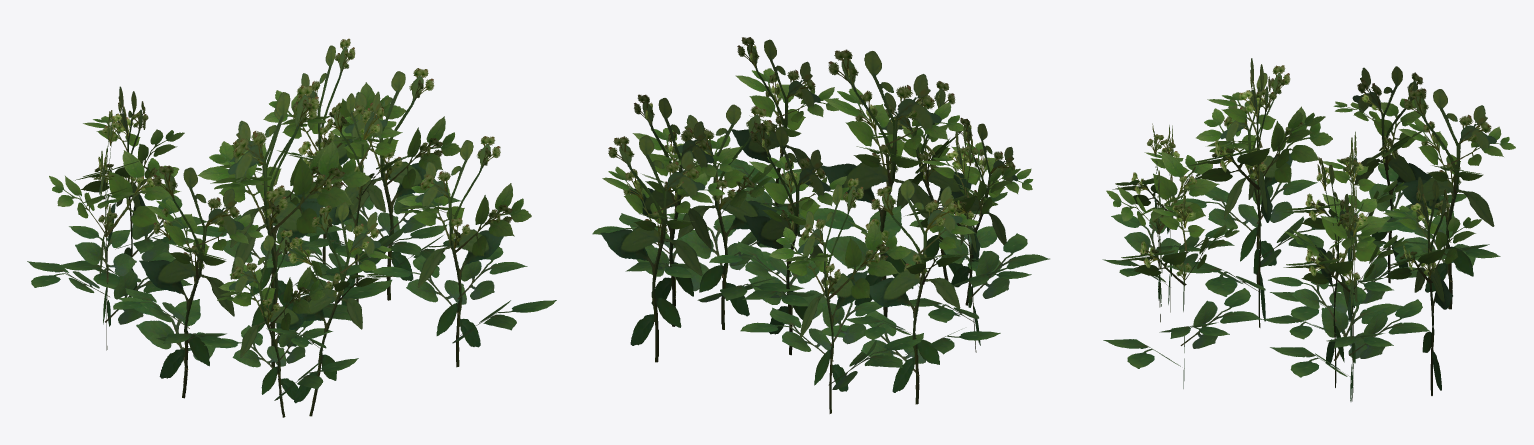
The model's file is Dingqingchuan_wujian_10.FBX.
3 renders of one model, left to right at view 1: azimuth 30°, elevation 25°; view 2: azimuth 150°, elevation 25°; view 3: azimuth 270°, elevation 25°, orthographic. The views are drawn at different scales.
Parts seen in each view (by area): view 1: Plane745; view 2: Plane745; view 3: Plane745.
Boxes of the visible parts, x1,y1,x2,y2 form: Plane745: (27,38,556,417); Plane745: (592,37,1049,413); Plane745: (1102,58,1515,401).
Size of the model in its own units: 9.49 by 6.64 by 8.69.
